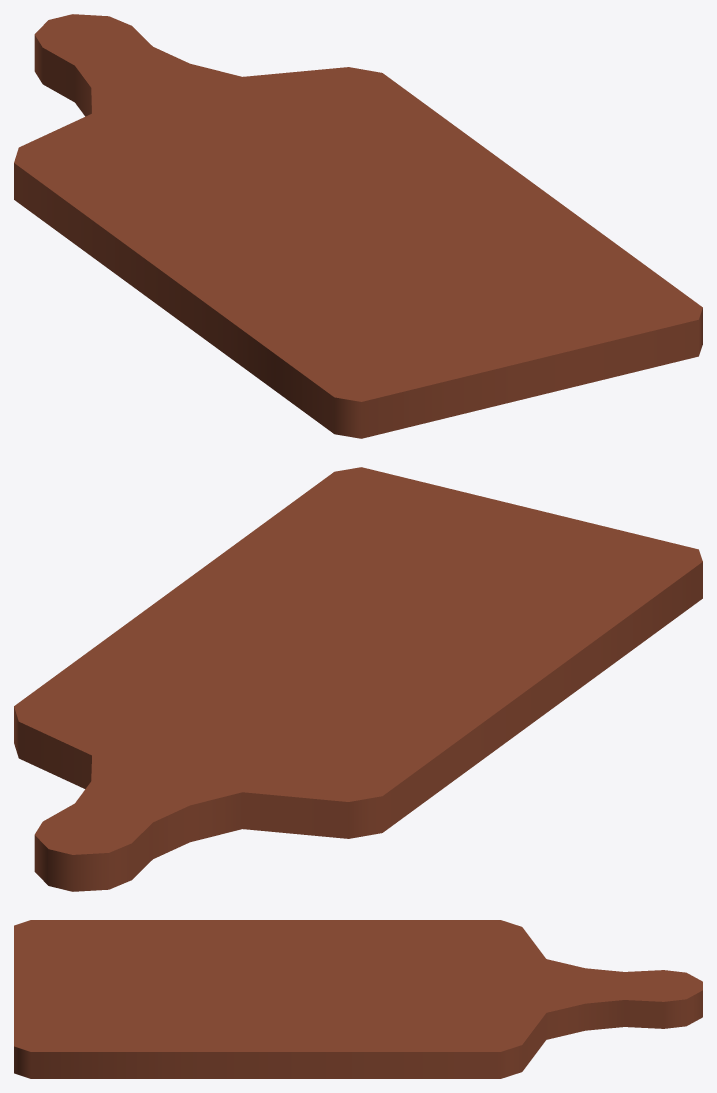
File: CuttingBoard_01.fbx
3 views of the same model, one above another, from view 1: azimuth 30°, elevation 25°; view 2: azimuth 150°, elevation 25°; view 3: azimuth 270°, elevation 25° (orthographic). The views are drawn at different scales.
Parts seen in each view (by area): view 1: CuttingBoard_01; view 2: CuttingBoard_01; view 3: CuttingBoard_01.
Part boxes in pixels (left/top/right/bottom): CuttingBoard_01: left=14, top=14, right=702, bottom=438; CuttingBoard_01: left=14, top=467, right=702, bottom=891; CuttingBoard_01: left=14, top=920, right=702, bottom=1078.
Size of the model in its own units: 0.1642 by 0.0157 by 0.3625.
